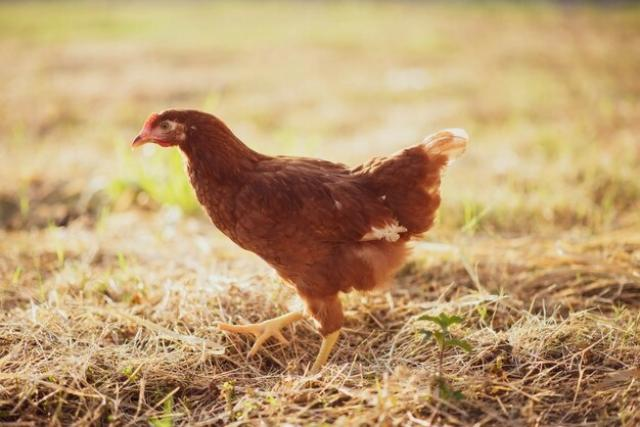Chicken: (131, 110, 469, 374)
